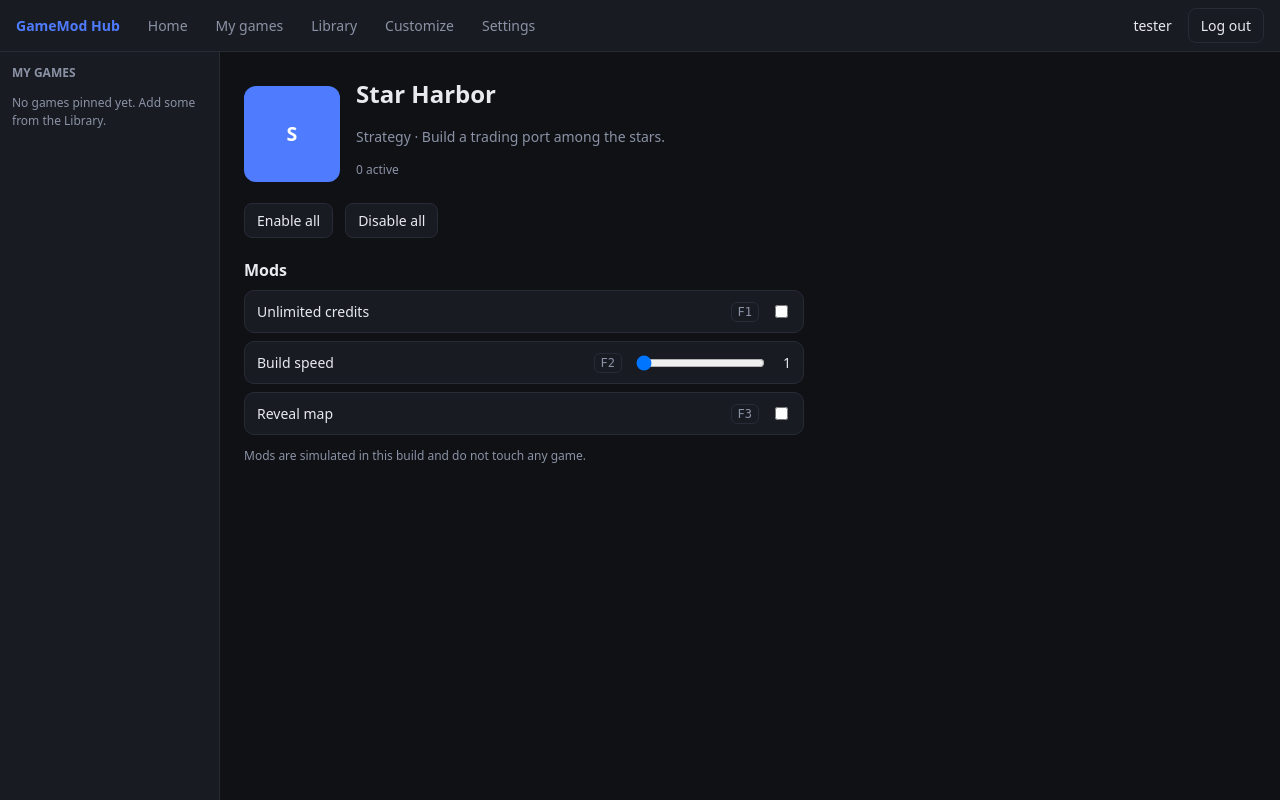
Test: game page › toggles mods and counts active ones
The image size is (1280, 800).
Click the switch named "Unlimited credits": (782, 312) [775,305,788,318]
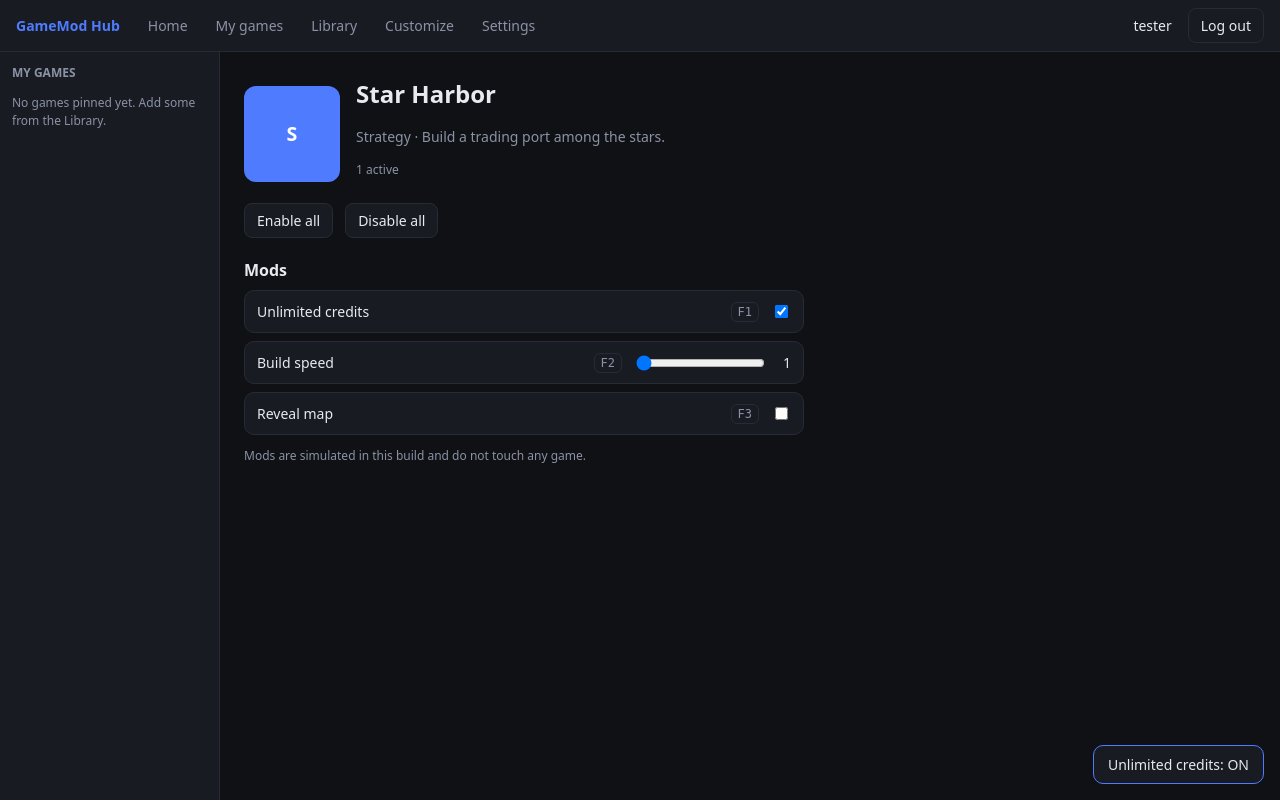
Expected: the text "1 active" is shown, [356,161,399,178]
Click the button "Enable all": (289, 220) [244,203,333,238]
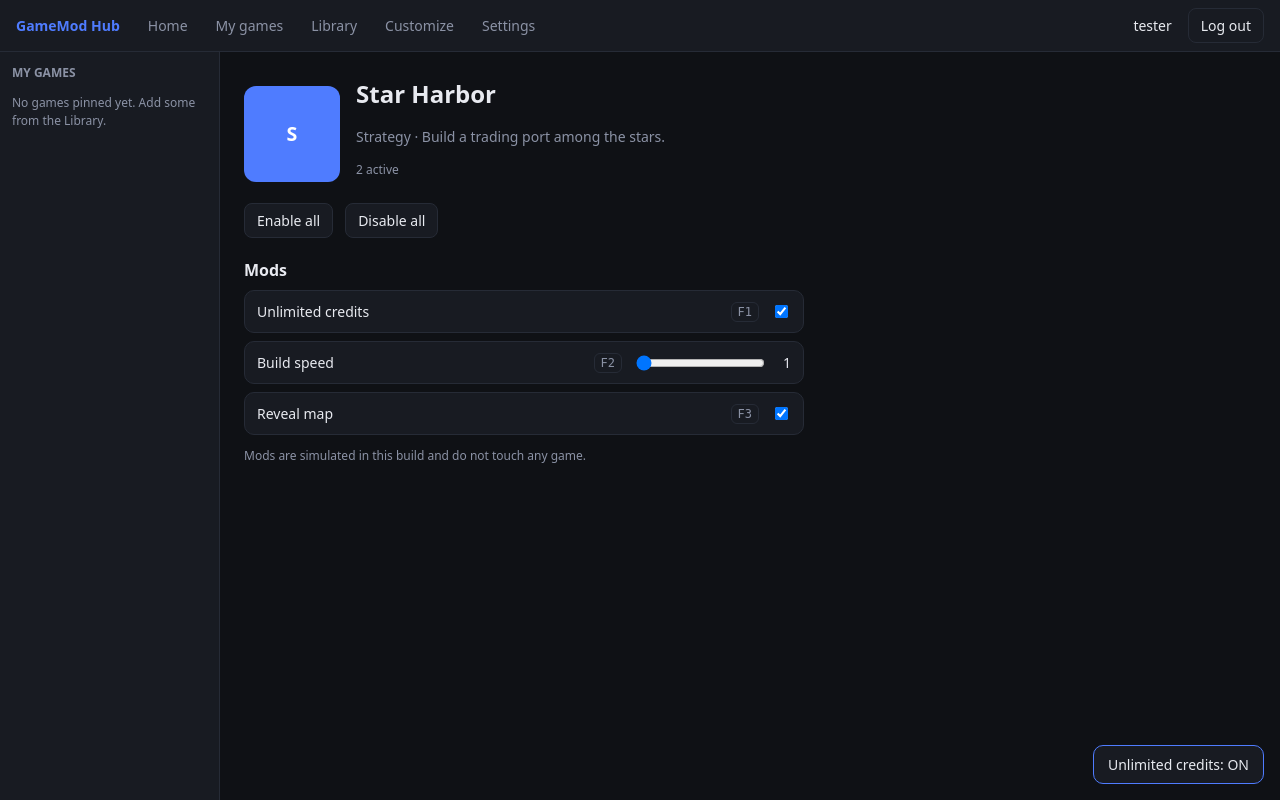
Expected: the text "2 active" is shown, [356,161,399,178]
Click the button "Disable all": (392, 220) [345,203,438,238]
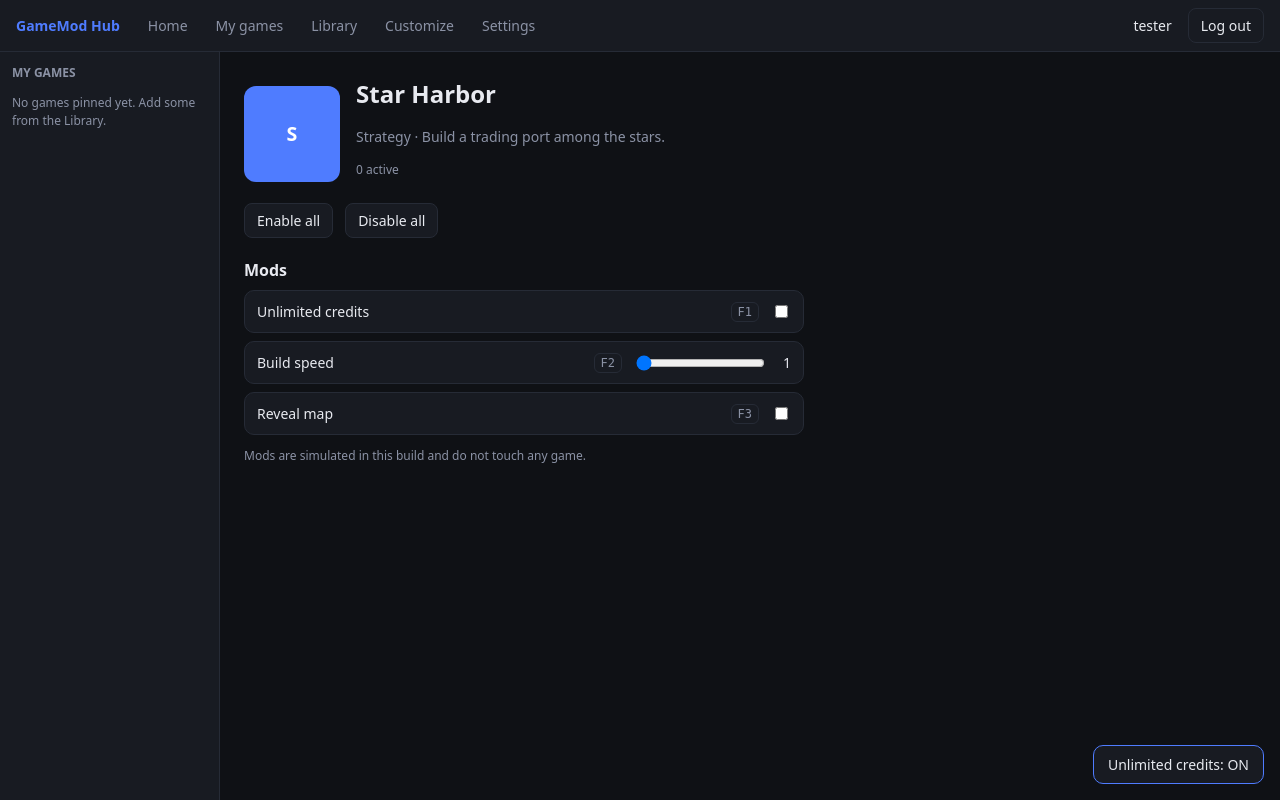
Expected: the text "0 active" is shown, [356,161,399,178]
